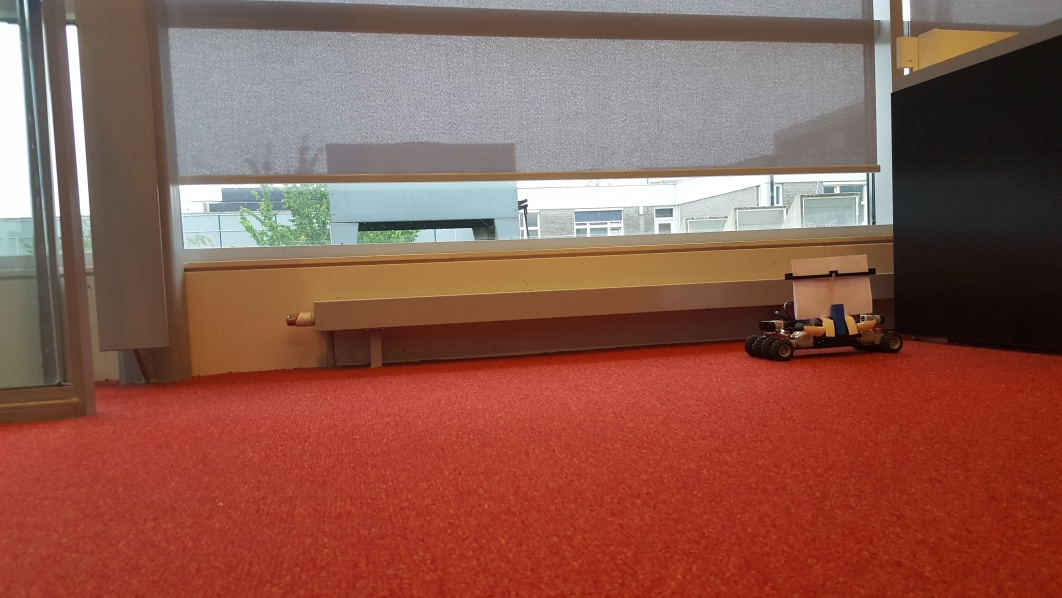car: (745, 249, 902, 360)
